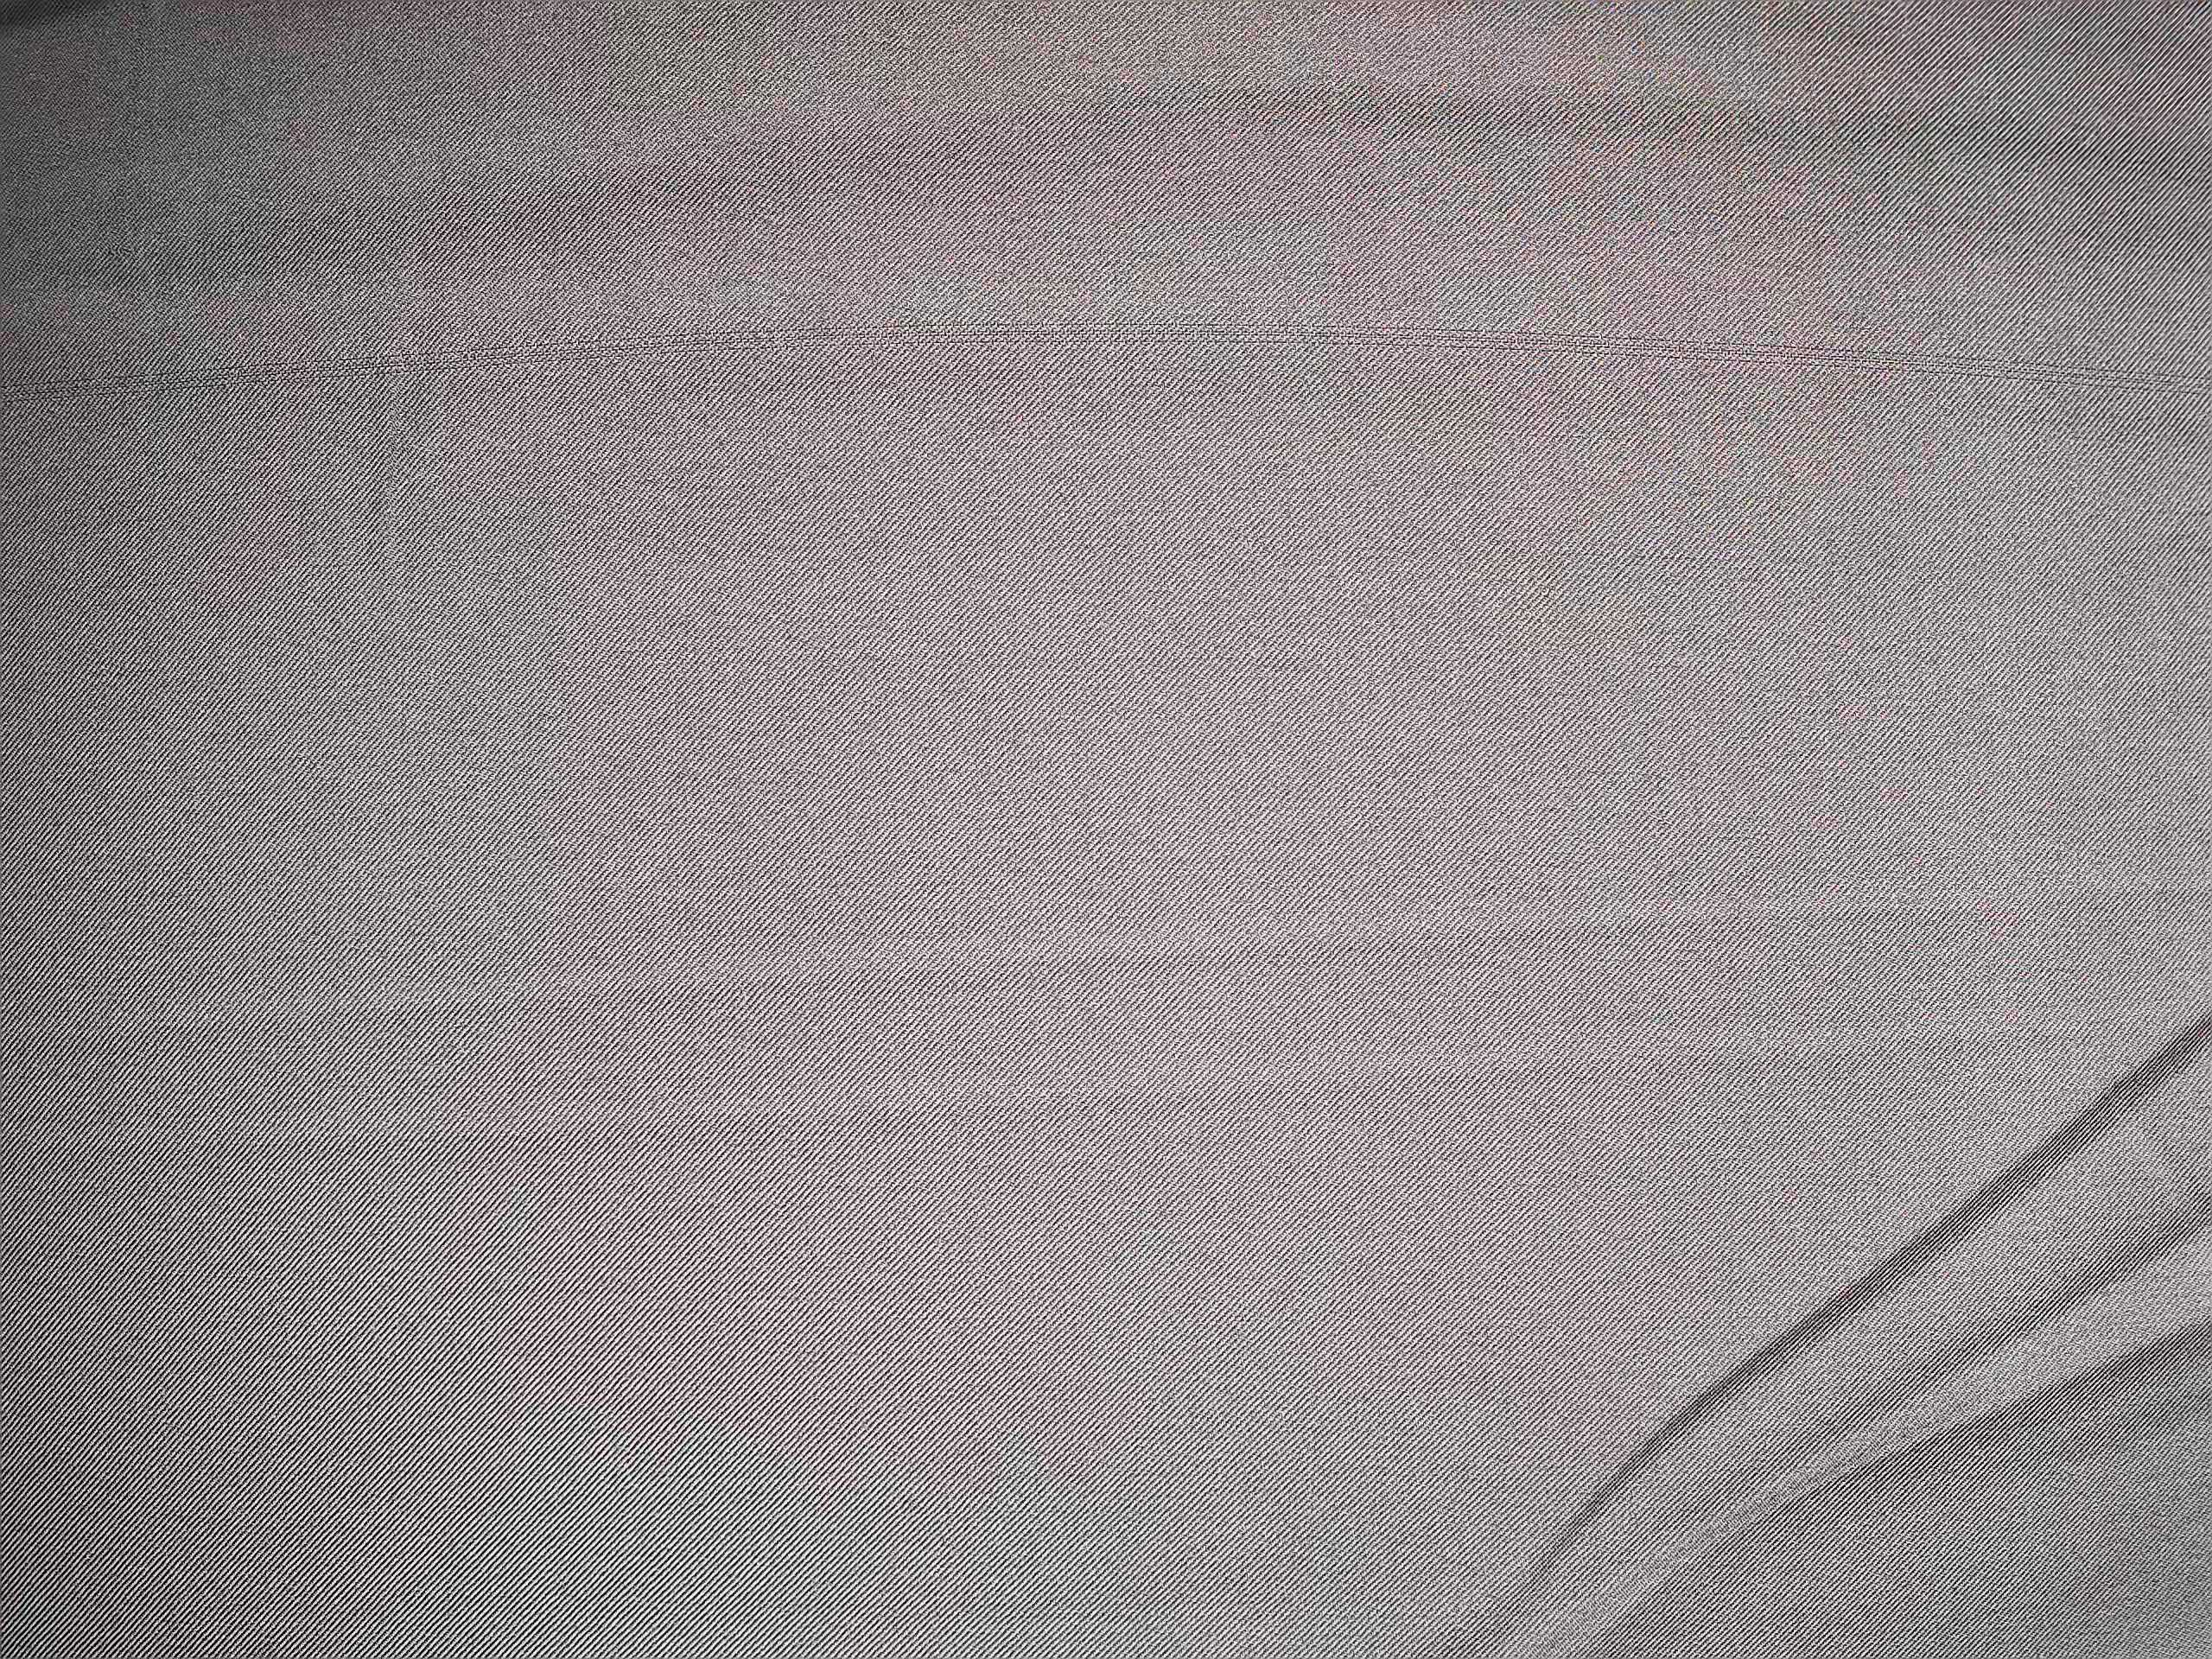others: (24, 319, 2209, 418)
